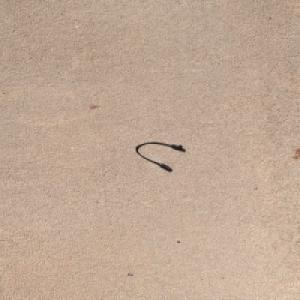Wire: (135, 141, 184, 170)
